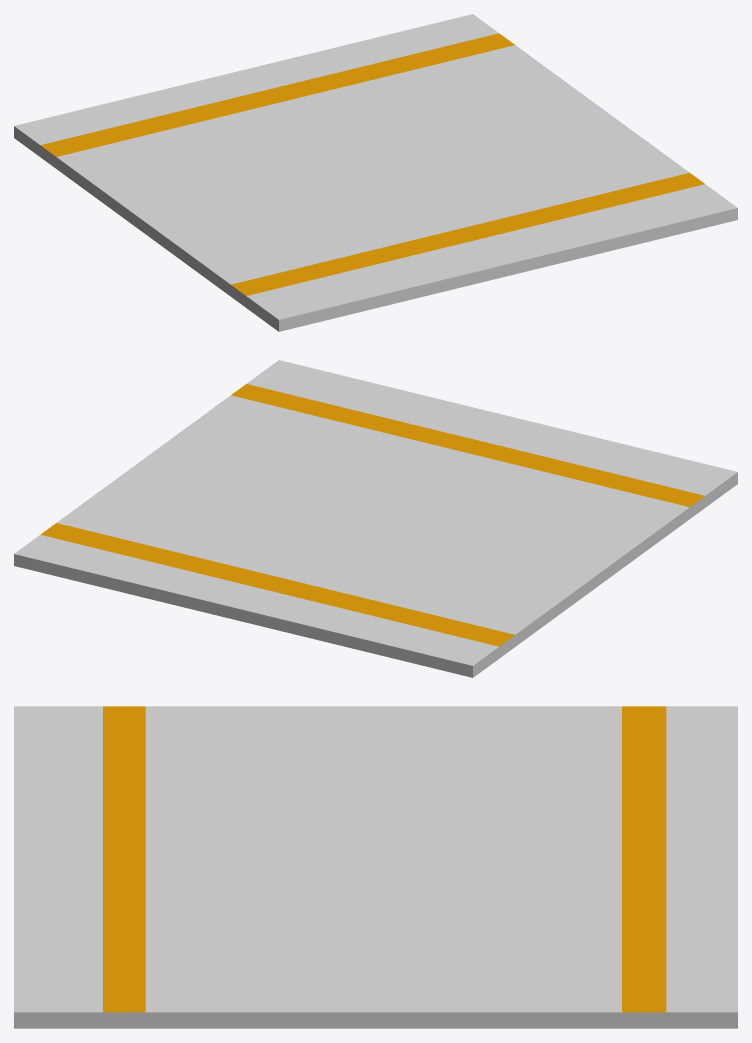
The model's file is Camino_3D_.fbx.
3 views of the same model, one above another, from view 1: azimuth 30°, elevation 25°; view 2: azimuth 150°, elevation 25°; view 3: azimuth 270°, elevation 25° (orthographic). The views are drawn at different scales.
Visible parts, largest first — view 1: Camino_2X; view 2: Camino_2X; view 3: Camino_2X.
Boxes of the visible parts, left/top/right/bottom form: Camino_2X: left=14, top=14, right=737, bottom=331; Camino_2X: left=14, top=360, right=737, bottom=677; Camino_2X: left=14, top=706, right=737, bottom=1028.
Size of the model in its own units: 400 by 10 by 400.
